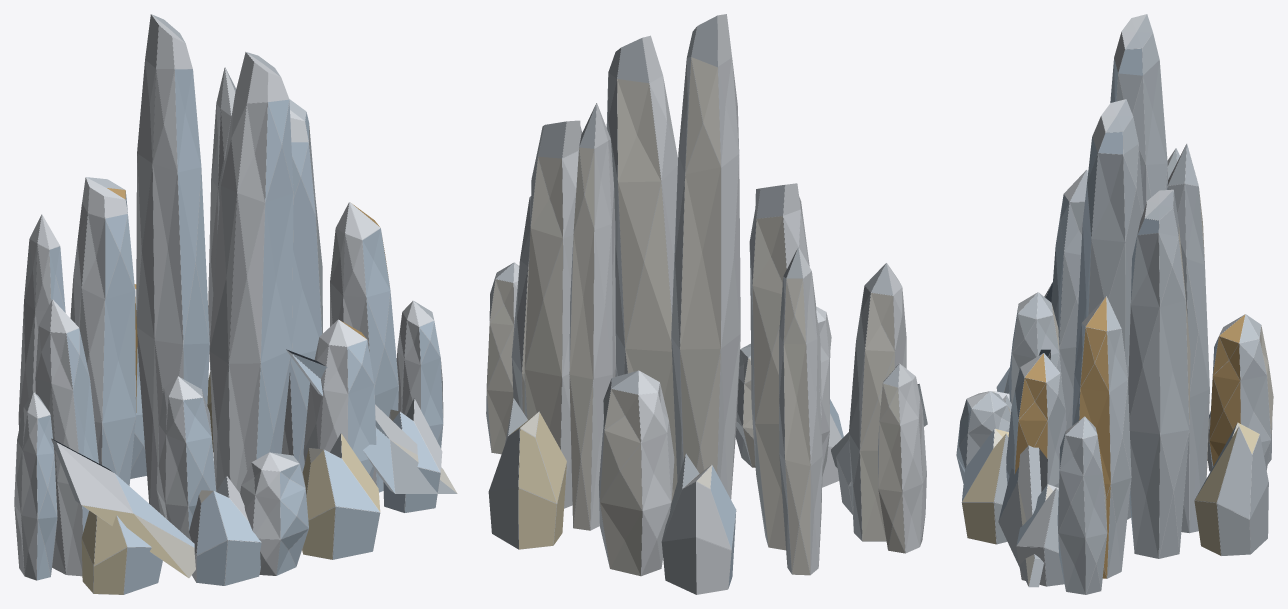
File: projection-grand-crystals-v1.glb
The picture shows the model from 3 angles, left to right: view 1: azimuth 30°, elevation 25°; view 2: azimuth 150°, elevation 25°; view 3: azimuth 270°, elevation 25°; orthographic projection. The views are drawn at different scales.
Parts seen in each view (by area): view 1: Projection Crystals | white projected sculpted facade, Projection Crystals | white projected sculpted facade | pale, Projection Crystals | mapped amber primary facet, Projection Crystals | crystal brushed silver facet, Projection Crystals | ivory sculpted return; view 2: Projection Crystals | ivory sculpted return, Projection Crystals | white projected sculpted facade, Projection Crystals | crystal brushed silver facet, Projection Crystals | mapped amber primary facet, Projection Crystals | white projected sculpted facade | pale; view 3: Projection Crystals | crystal brushed silver facet, Projection Crystals | white projected sculpted facade, Projection Crystals | crystal champagne gold facet, Projection Crystals | white projected sculpted facade | pale, Projection Crystals | mapped amber primary facet, Projection Crystals | ivory sculpted return.
Part boxes in pixels (<box>): Projection Crystals | white projected sculpted facade: <box>14,14,443,594</box>; Projection Crystals | white projected sculpted facade | pale: <box>36,69,443,594</box>; Projection Crystals | mapped amber primary facet: <box>81,372,380,594</box>; Projection Crystals | crystal brushed silver facet: <box>35,14,456,569</box>; Projection Crystals | ivory sculpted return: <box>134,409,457,577</box>; Projection Crystals | ivory sculpted return: <box>487,57,905,575</box>; Projection Crystals | white projected sculpted facade: <box>486,14,926,594</box>; Projection Crystals | crystal brushed silver facet: <box>486,16,927,594</box>; Projection Crystals | mapped amber primary facet: <box>510,412,566,549</box>; Projection Crystals | white projected sculpted facade | pale: <box>710,399,843,588</box>; Projection Crystals | crystal brushed silver facet: <box>966,14,1272,594</box>; Projection Crystals | white projected sculpted facade: <box>956,14,1273,594</box>; Projection Crystals | crystal champagne gold facet: <box>1015,297,1245,578</box>; Projection Crystals | white projected sculpted facade | pale: <box>956,48,1236,588</box>; Projection Crystals | mapped amber primary facet: <box>962,423,1259,555</box>; Projection Crystals | ivory sculpted return: <box>993,191,1273,585</box>.
Bounding box in the file's own units: 7.44 × 8.46 × 5.21.
